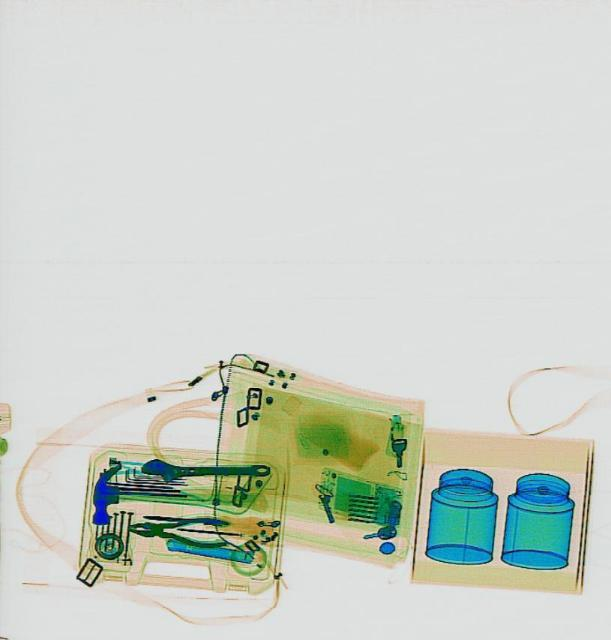Pliers: (126, 509, 228, 549)
Wrench: (141, 456, 269, 482)
